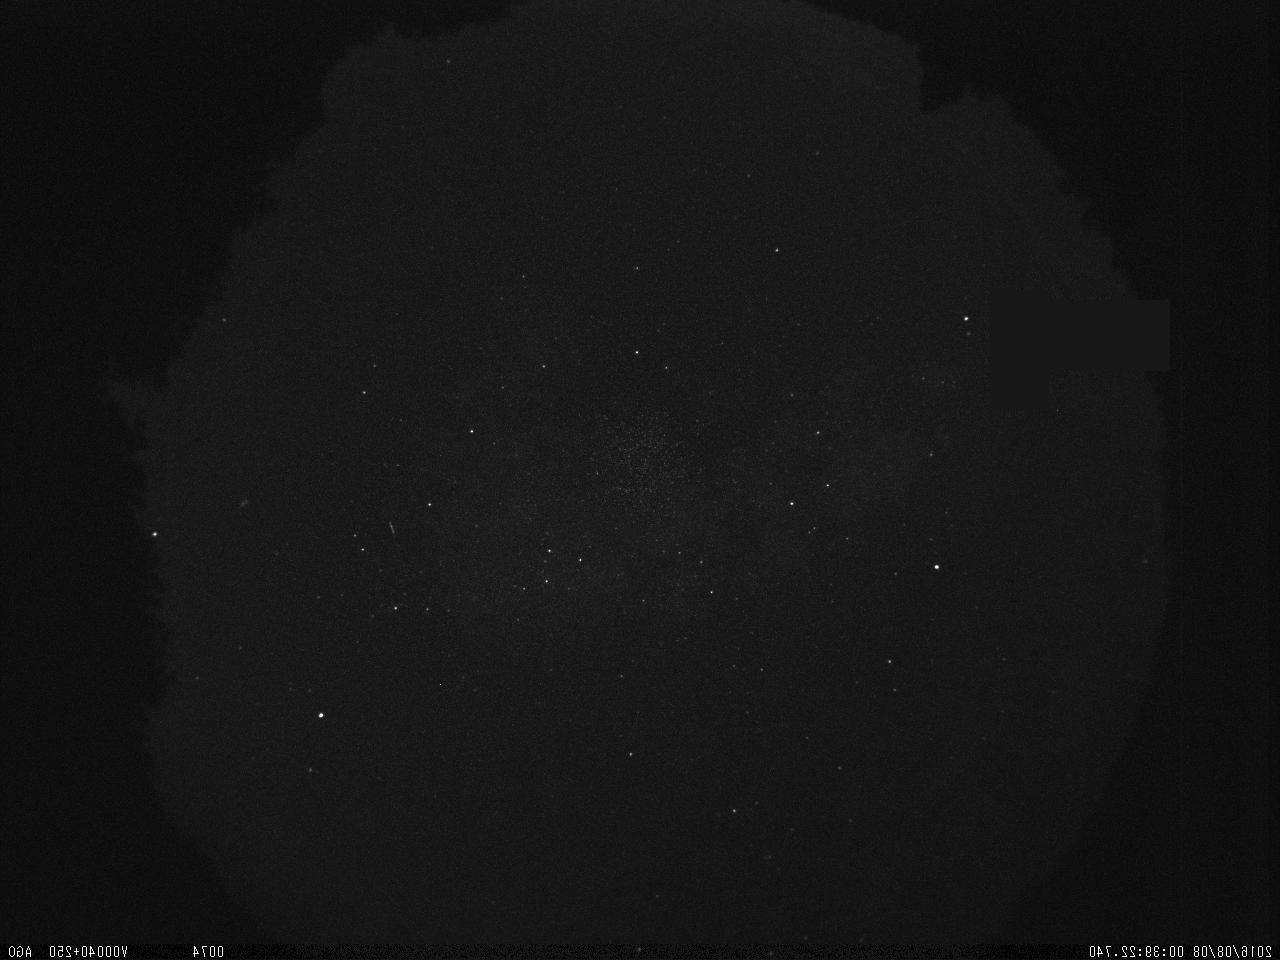meteor: (988, 291, 1075, 377)
